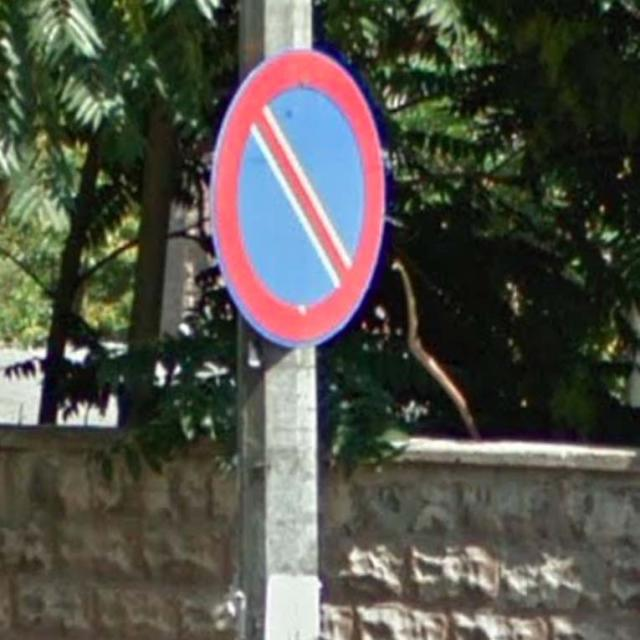parkyasak: (206, 47, 390, 351)
